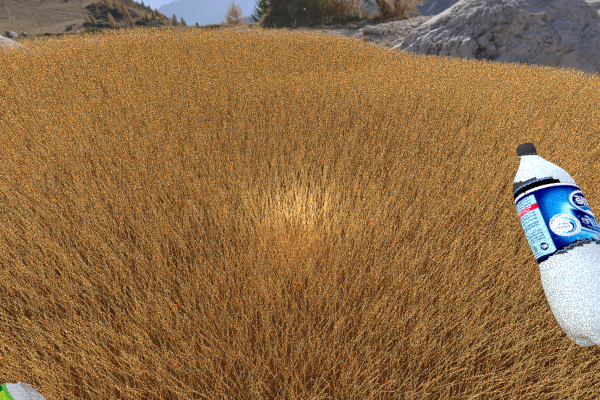bottle: (512, 142, 600, 348)
can: (0, 381, 69, 400)
